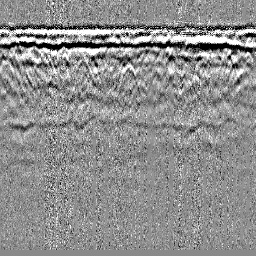cavity: (117, 59, 139, 93)
